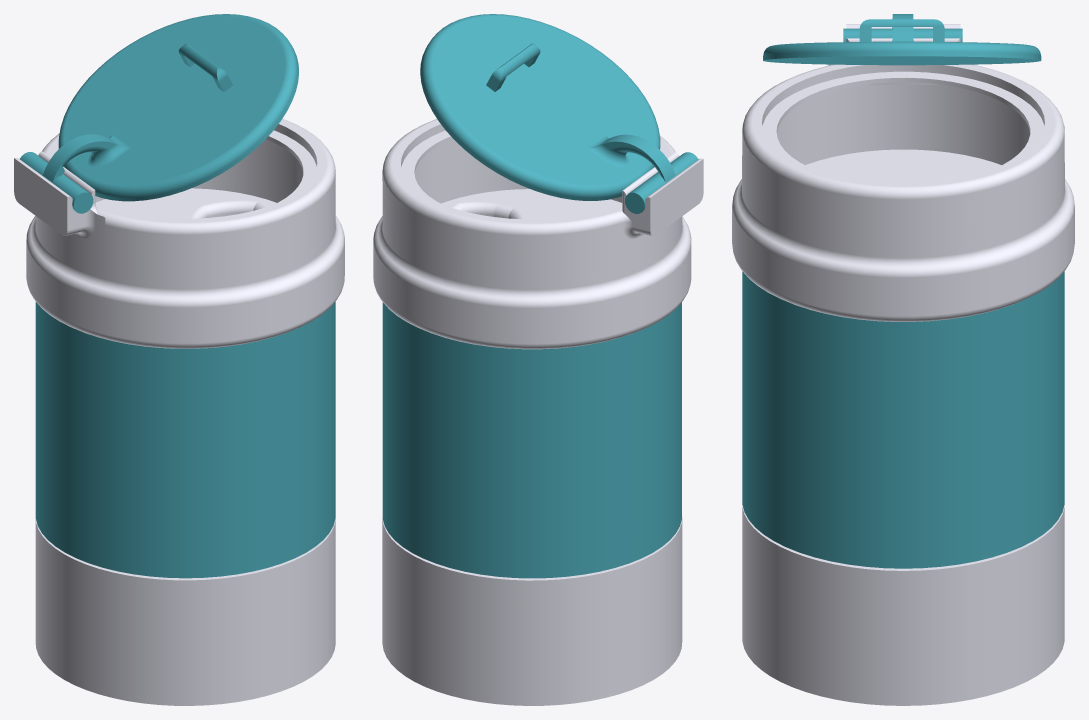
File: tacho inteliegnte aseml.glb
3 renders of one model, left to right at view 1: azimuth 30°, elevation 25°; view 2: azimuth 150°, elevation 25°; view 3: azimuth 270°, elevation 25°, orthographic. The views are drawn at different scales.
Visible parts, largest first — view 1: Solid1 (×4); view 2: Solid1 (×4); view 3: Solid1 (×4).
Part boxes in pixels (box(x1,y1,x2,y2)): Solid1 (×4): box(14, 14, 344, 705); Solid1 (×4): box(373, 14, 703, 705); Solid1 (×4): box(732, 14, 1074, 705).
Bounding box in the file's own units: 0.0707 × 0.1421 × 0.069.
